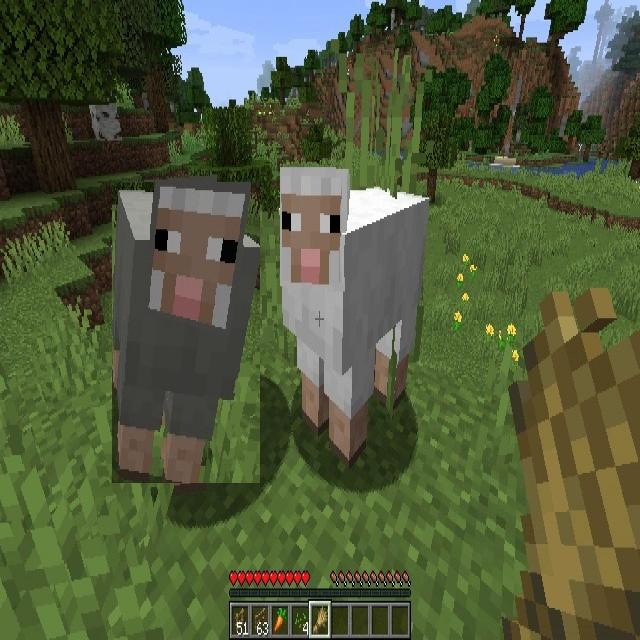flower: (506, 322, 516, 338), (485, 323, 496, 335), (454, 313, 462, 327), (462, 253, 470, 264), (510, 349, 518, 359), (463, 292, 470, 302), (470, 265, 476, 276), (458, 274, 463, 284)
sheep: (112, 182, 260, 483), (281, 169, 427, 454)
